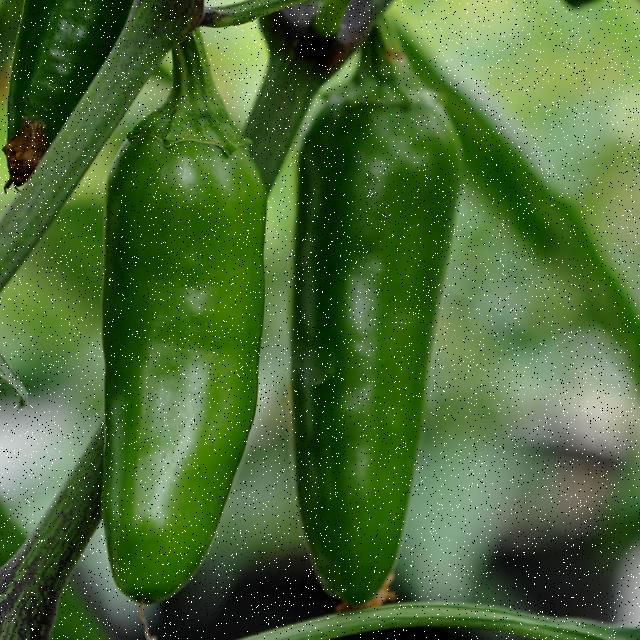Chili Pepper: (284, 58, 512, 621), (76, 48, 276, 618)
